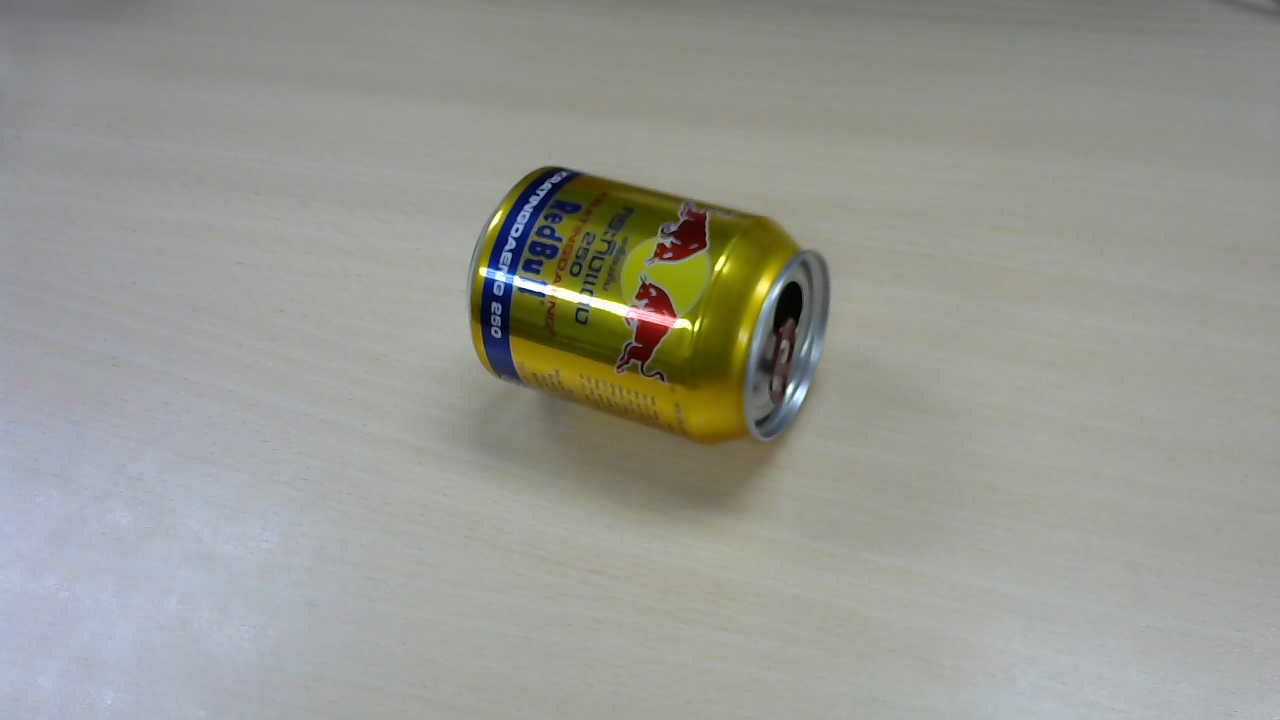Red_Bull: (471, 167, 836, 440)
